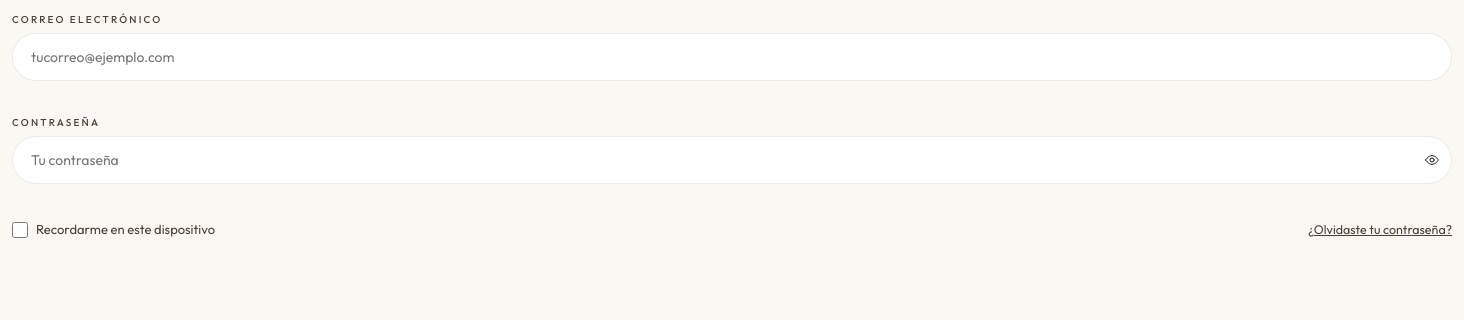
Test: LoginForm › shows a generic message on a non-ApiError failure
This screenshot has width=1464, height=320.
Type "sharon@ejemplo.com" into the field with placeholder "tucorreo@ejemplo.com" at (732, 57), box [12,33,1452,81]
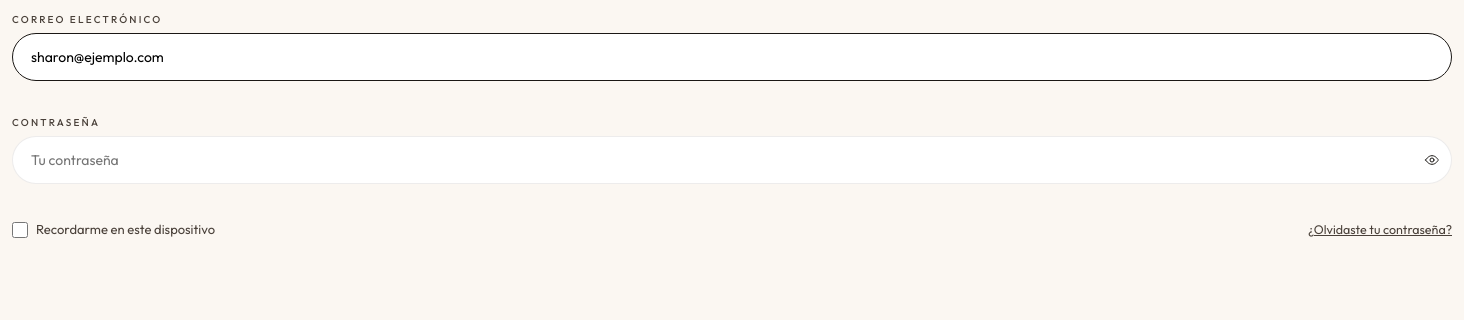
Type "clave1234" into the password field with placeholder "Tu contraseña" at (732, 160), box [12,136,1452,184]
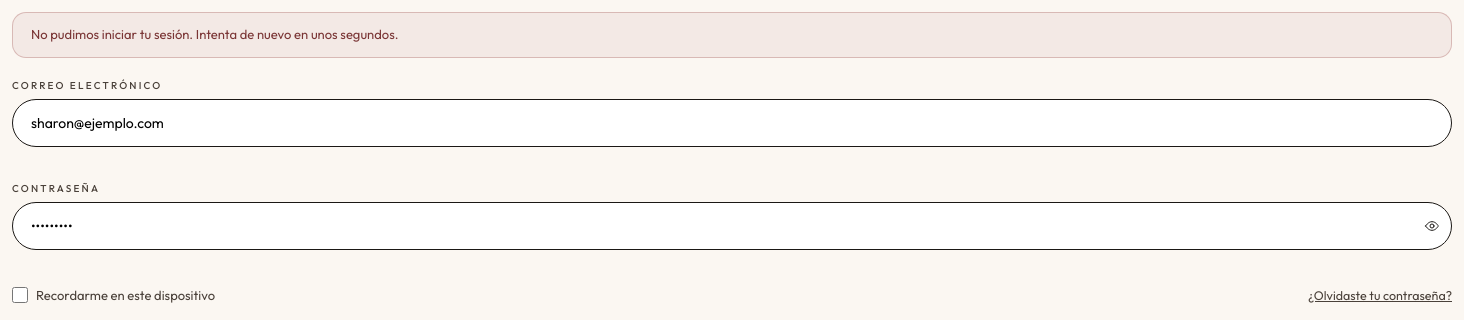
Expected: the text "No pudimos iniciar tu sesión. Intenta de nuevo en unos segundos." is shown, [12,12,1452,58]
